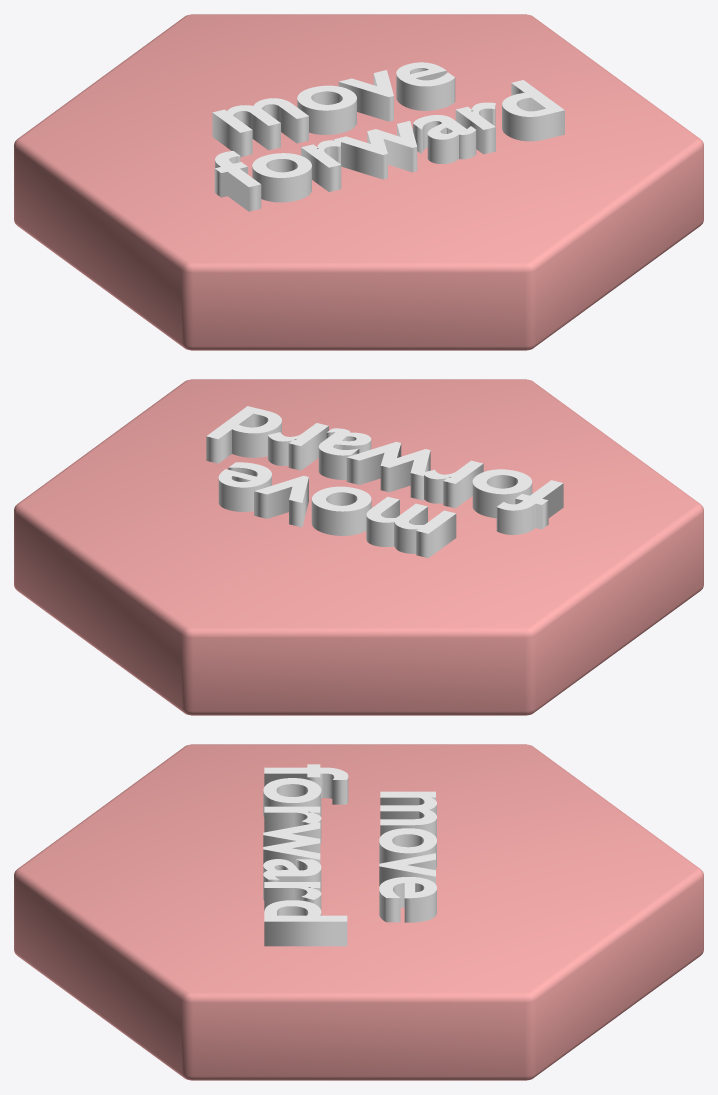
Rendered from moveforward.fbx.
The picture shows the model from 3 angles, top to bottom: view 1: azimuth 30°, elevation 25°; view 2: azimuth 150°, elevation 25°; view 3: azimuth 270°, elevation 25°; orthographic projection.
Parts seen in each view (by area): view 1: MoveForward_Button, MoveForward_Text; view 2: MoveForward_Button, MoveForward_Text; view 3: MoveForward_Button, MoveForward_Text.
Boxes of the visible parts, x1=… form: MoveForward_Button: x1=14, y1=14, x2=703, y2=350; MoveForward_Text: x1=212, y1=62, x2=564, y2=211; MoveForward_Button: x1=14, y1=379, x2=703, y2=715; MoveForward_Text: x1=206, y1=406, x2=563, y2=558; MoveForward_Button: x1=14, y1=744, x2=703, y2=1080; MoveForward_Text: x1=263, y1=764, x2=436, y2=946.
Size of the model in its own units: 312 by 64 by 358.
